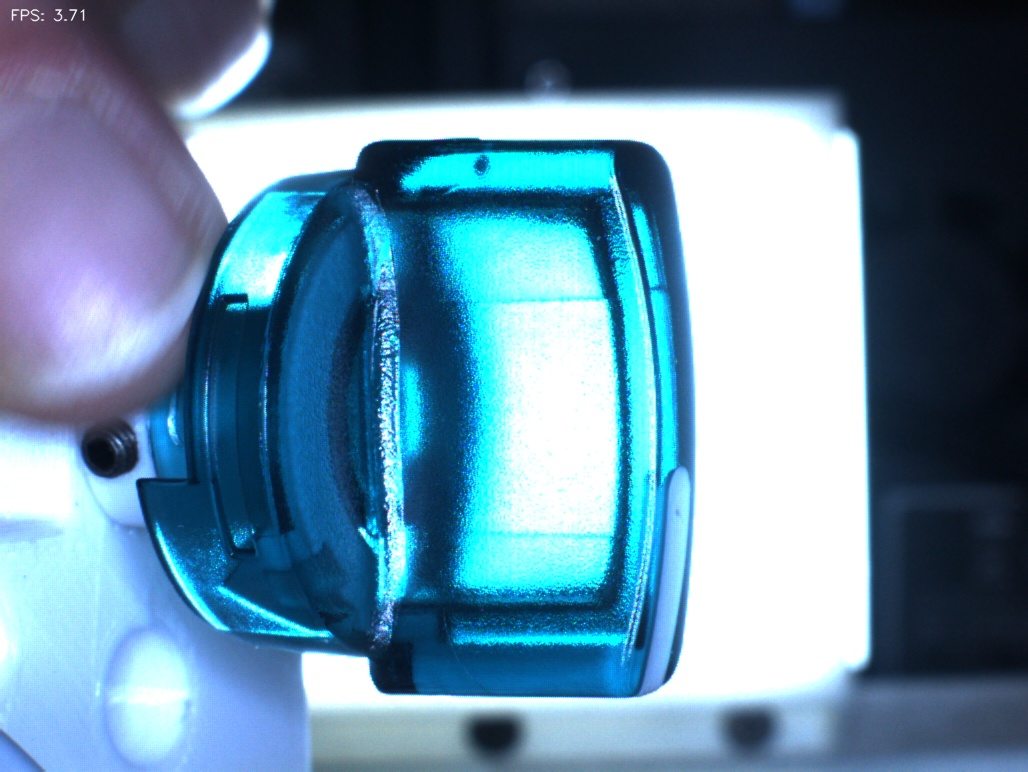Bulle: (443, 123, 521, 201)
